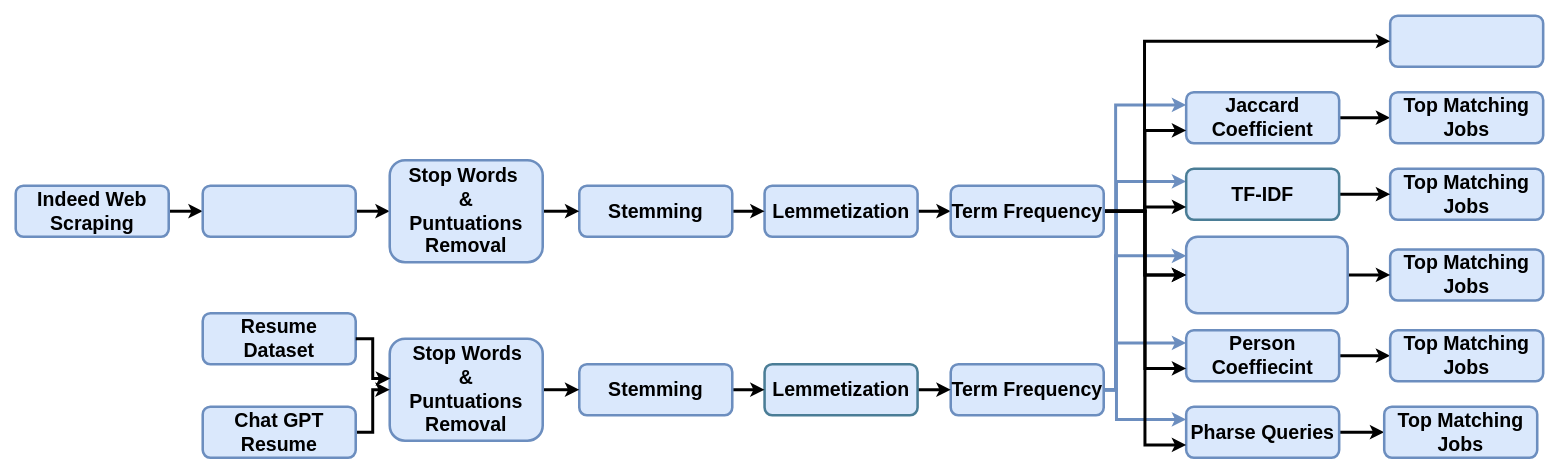
Image size: 1559x473. Some labels were removed from this diagram. Here are the shapes that lost their labels. From the top down, the centre of each, then its label:
At (1466,41): "Job Trends".
At (279,211): "Job Descriptions".
At (1266,274): "Consine Similarity(Doc to Vec Model)".
